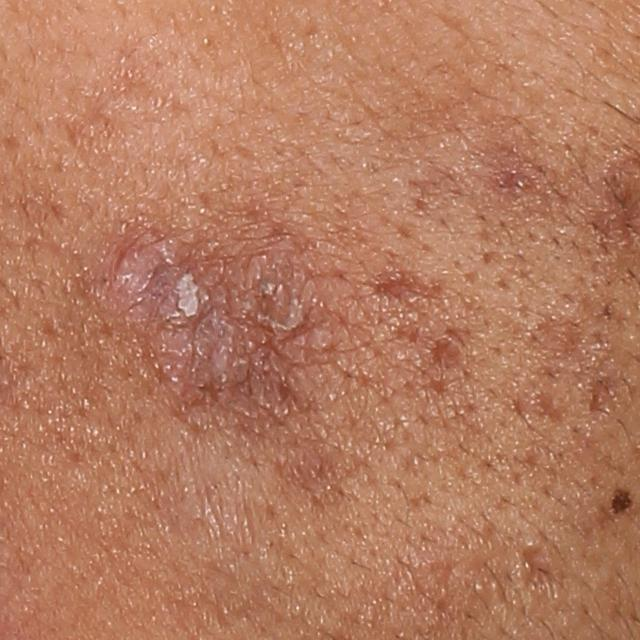atrophic_scar: (529, 379, 571, 423), (422, 333, 467, 372)
nevus: (608, 487, 638, 516)
